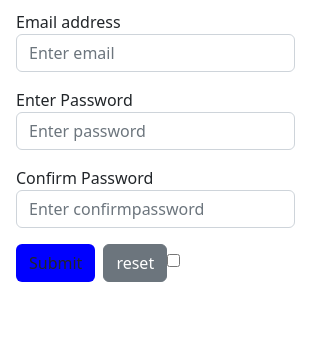
Test: App Component Error Handling › should match password with confirmPassword
Type "vajaganidhanesh@gmail.com" into the field labelled "Email address".
click(156, 53); type("vajaganidhanesh@gmail.com")  # box x1=16 y1=34 x2=295 y2=72
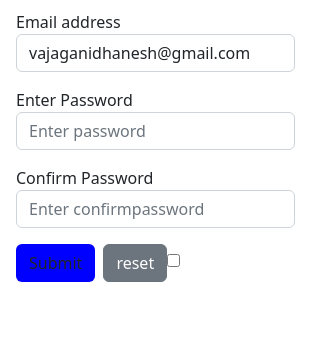
Type "dhanesh" into the password field labelled "Enter Password".
click(156, 131); type("dhanesh")  # box x1=16 y1=112 x2=295 y2=150
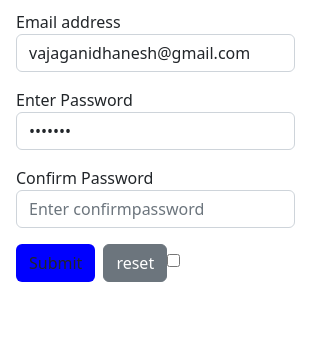
Type "dhane" into the password field with placeholder "Enter confirmpassword".
click(156, 209); type("dhane")  # box x1=16 y1=190 x2=295 y2=228
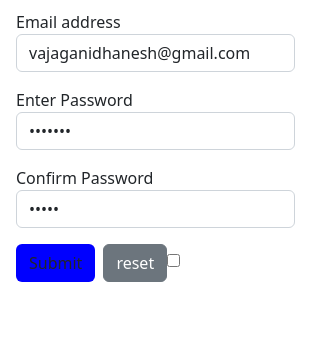
Expected: the text "password should match with previous password" is not shown
Click the button "Submit".
click(56, 263)  # box x1=16 y1=244 x2=95 y2=282
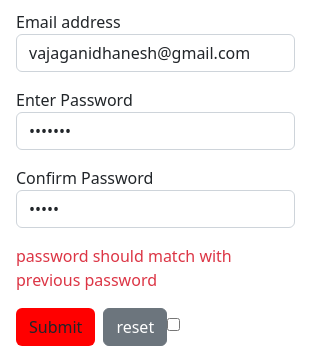
Expected: the text "password should match with previous password" is shown, x1=16 y1=245 x2=232 y2=291
